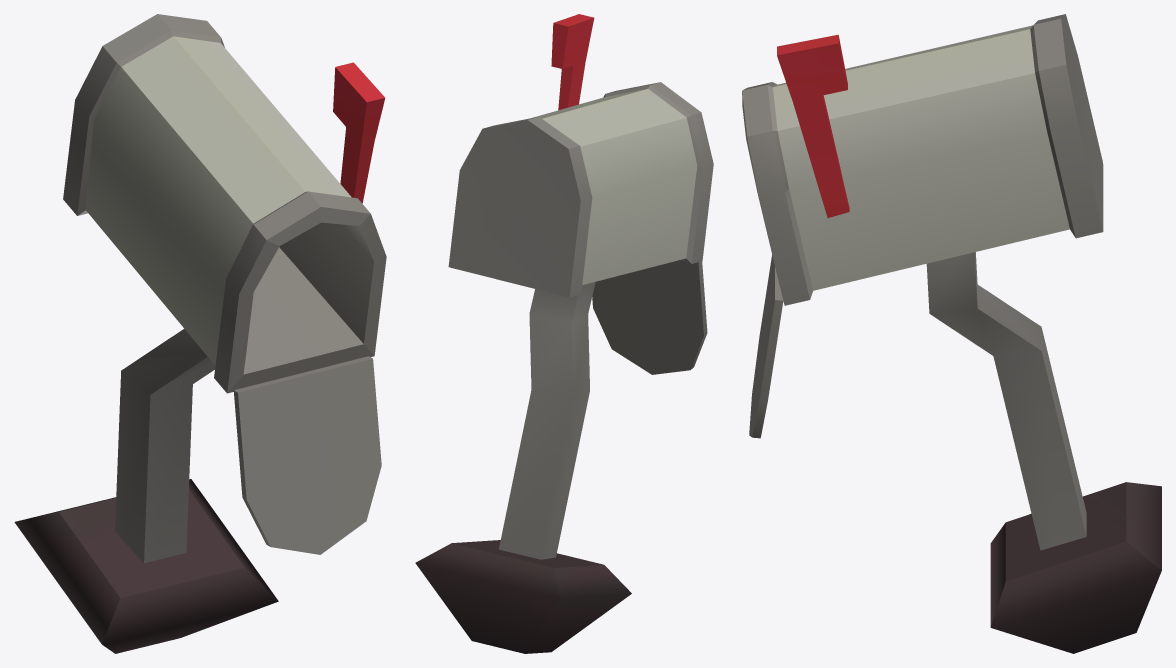
File: mailbox.fbx
The picture shows the model from 3 angles, left to right: view 1: azimuth 30°, elevation 25°; view 2: azimuth 150°, elevation 25°; view 3: azimuth 270°, elevation 25°; orthographic projection. The views are drawn at different scales.
Parts seen in each view (by area): view 1: mailbox_geo; view 2: mailbox_geo; view 3: mailbox_geo.
Boxes of the visible parts, <box> form: mailbox_geo: <box>14,14,386,653</box>; mailbox_geo: <box>415,14,713,653</box>; mailbox_geo: <box>742,14,1161,653</box>.
Bounding box in the file's own units: 62.01 × 218 × 130.
